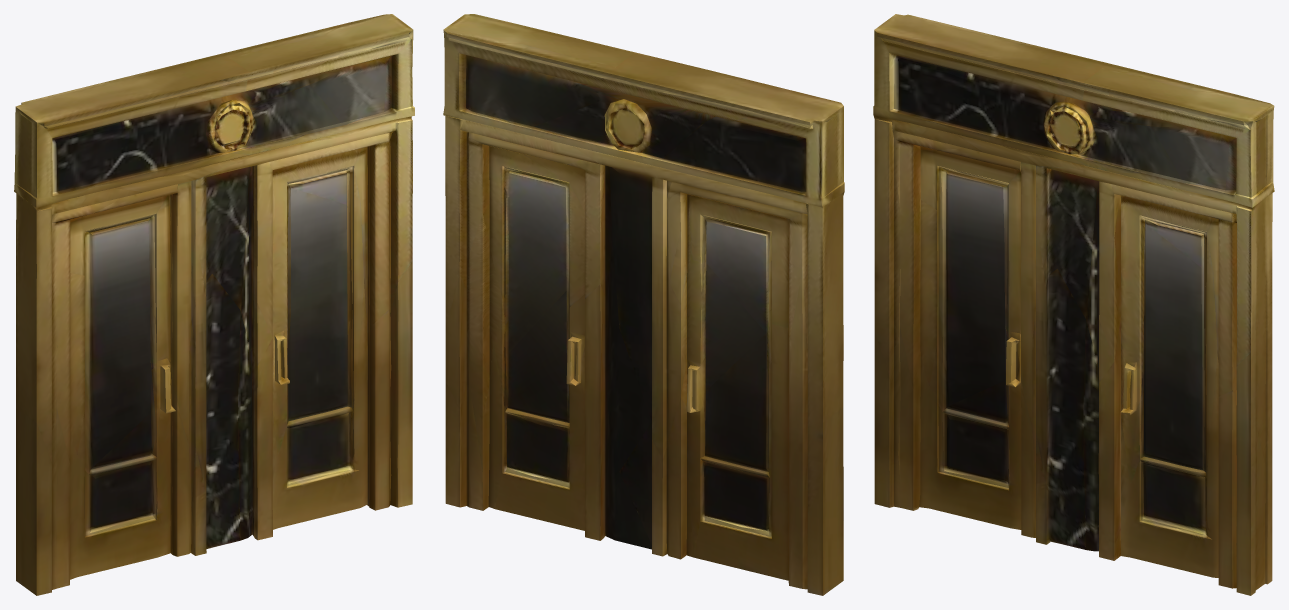
File: elevatorDoorsSliding.glb
3 renders of one model, left to right at view 1: azimuth 30°, elevation 25°; view 2: azimuth 150°, elevation 25°; view 3: azimuth 330°, elevation 25°, orthographic.
Parts seen in each view (by area): view 1: model; view 2: model; view 3: model.
Boxes of the visible parts, left/top/right/bottom form: model: left=14, top=14, right=414, bottom=595; model: left=443, top=14, right=844, bottom=595; model: left=873, top=14, right=1274, bottom=595.
Bounding box in the file's own units: 1.58 × 1.9 × 0.2013.
1 material, 1 textured.
